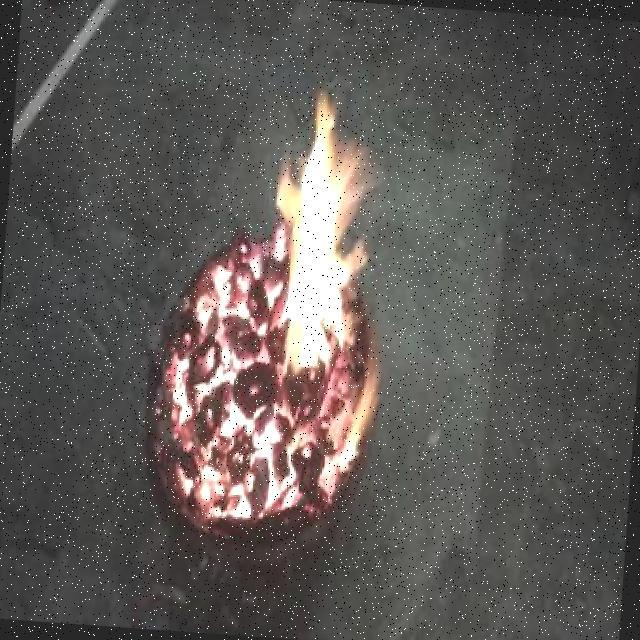Fire: (250, 89, 414, 531), (141, 229, 270, 534)
